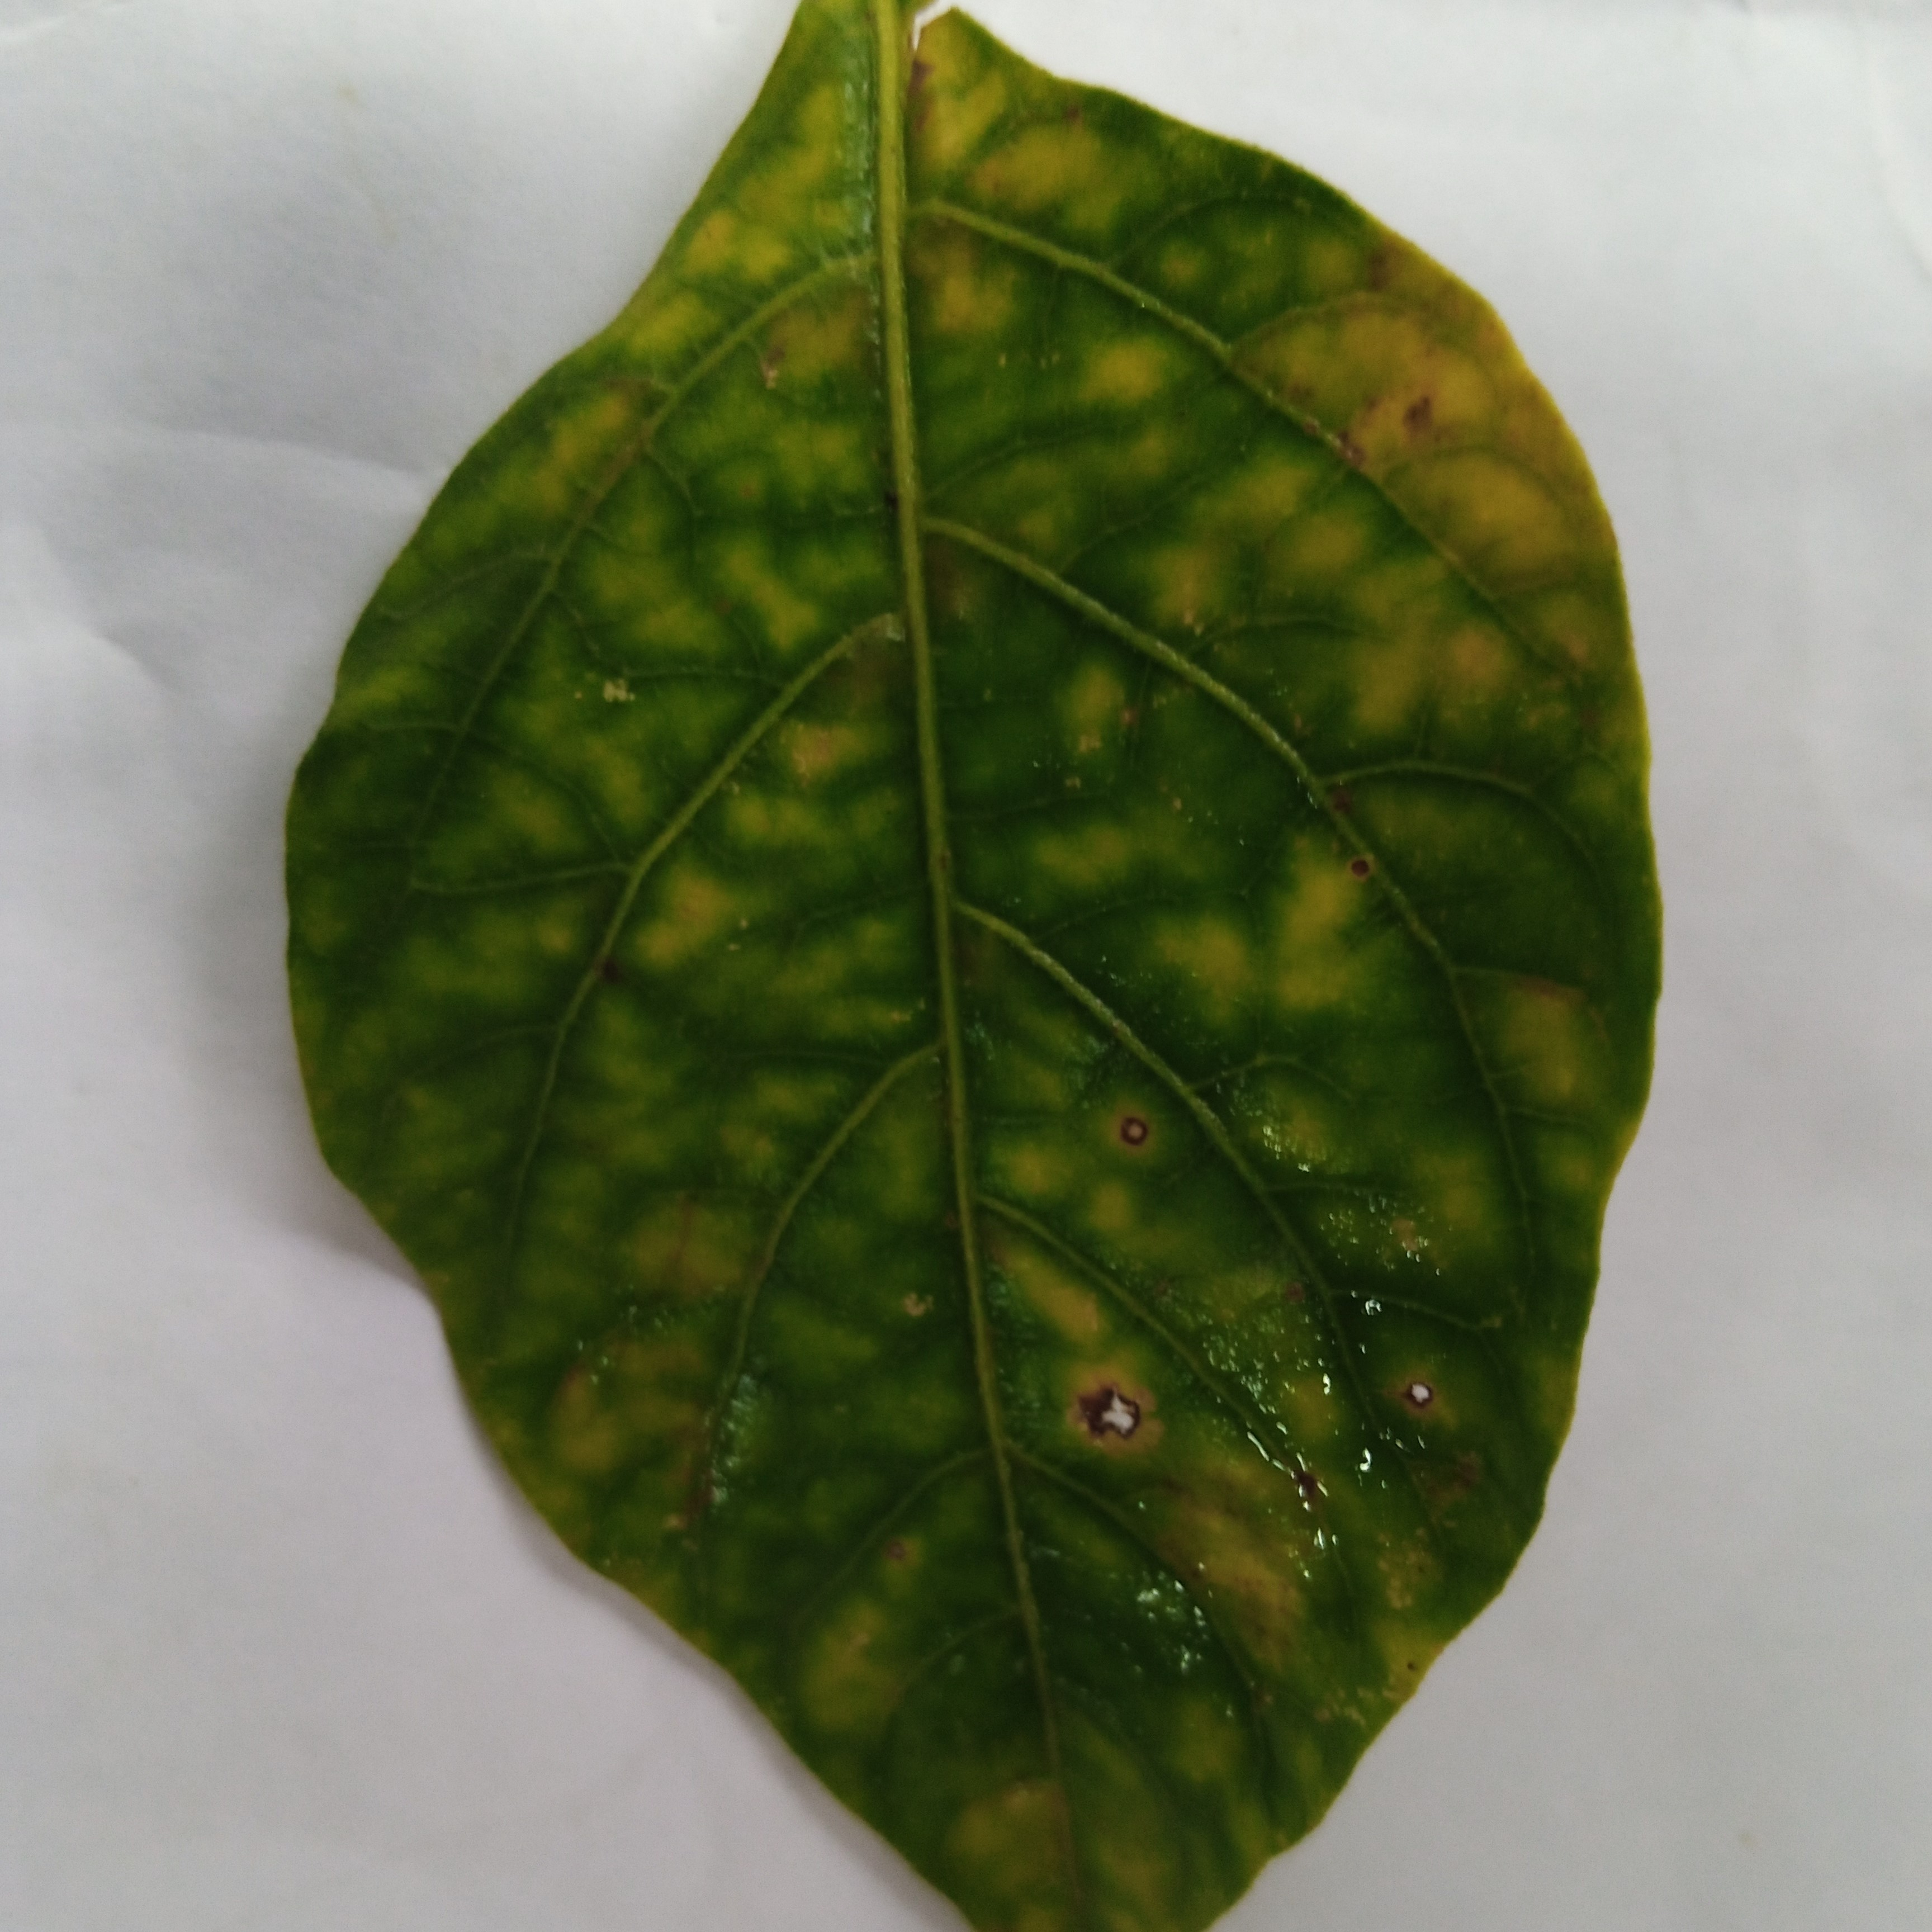Leaf: (212, 0, 1833, 1932)
